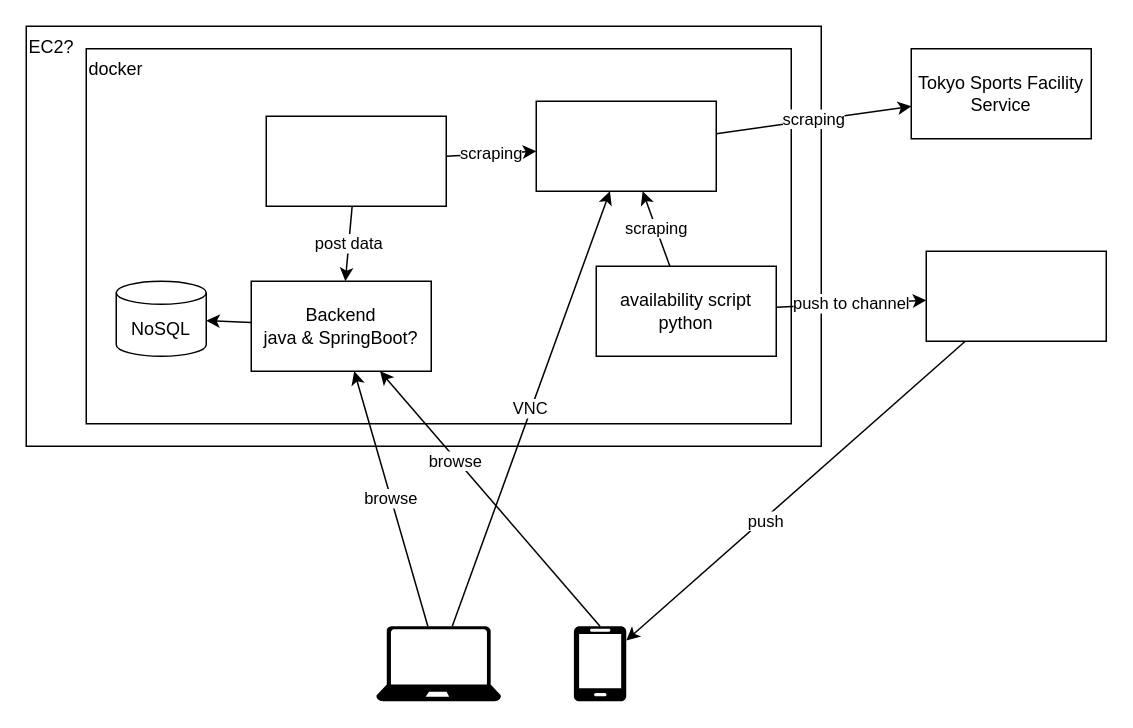
The diagram is 1133 pixels wide and 728 high, and some of its shapes have lost their labels. Each missing label, with the centre of its shape:
application status script python: the point at 355,160
LINE Messaging Service: the point at 1015,295
Selenium chrome VNC: the point at 625,145
